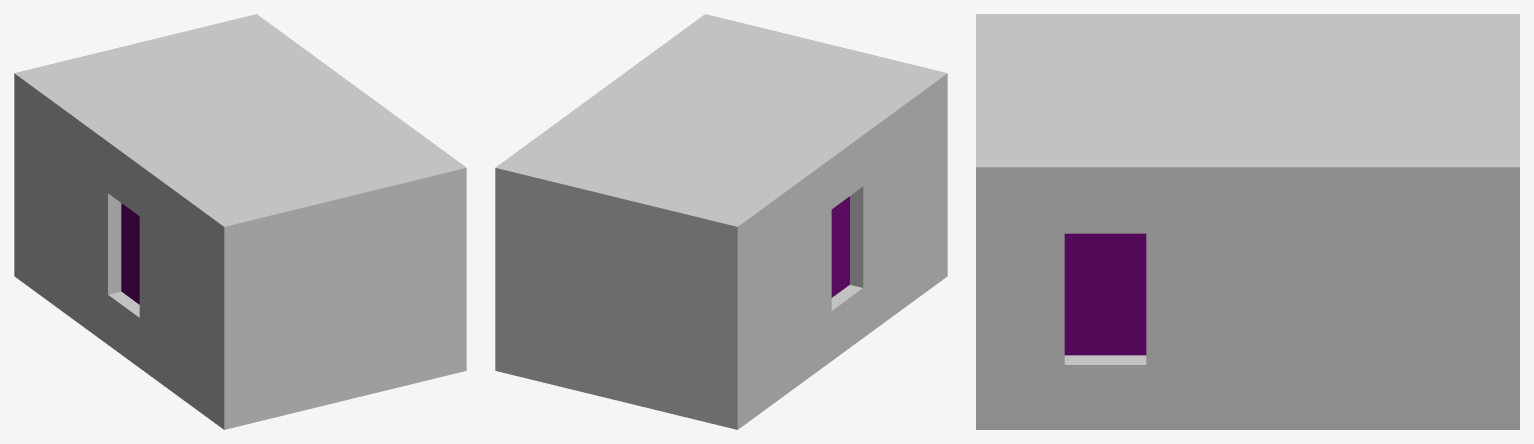
Rendered from medrect_mid_1.fbx.
3 renders of one model, left to right at view 1: azimuth 30°, elevation 25°; view 2: azimuth 150°, elevation 25°; view 3: azimuth 270°, elevation 25°, orthographic. The views are drawn at different scales.
Parts seen in each view (by area): view 1: medrect_mid_1.001; view 2: medrect_mid_1.001; view 3: medrect_mid_1.001.
Boxes of the visible parts, x1,y1,x2,y2 form: medrect_mid_1.001: [14, 14, 466, 429]; medrect_mid_1.001: [495, 14, 947, 429]; medrect_mid_1.001: [976, 14, 1519, 429].
Bounding box in the file's own units: 500 × 400 × 750.
